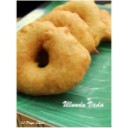vada: (17, 24, 90, 94), (39, 10, 94, 57), (55, 2, 103, 46)
